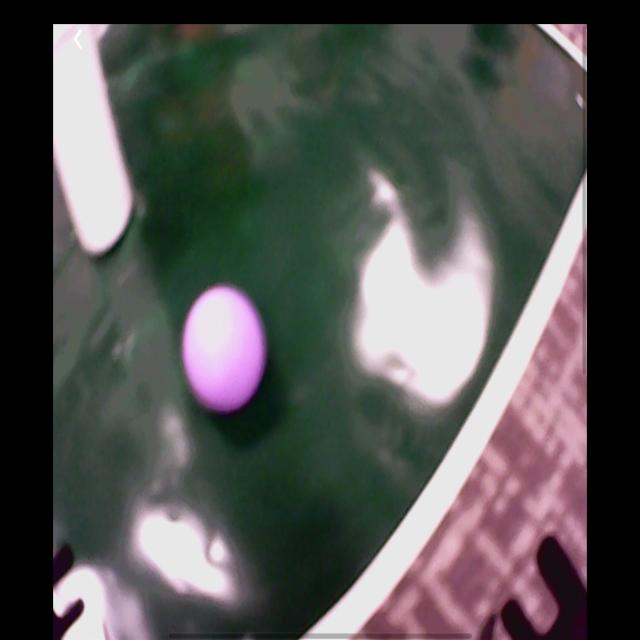ball: (180, 287, 266, 417)
